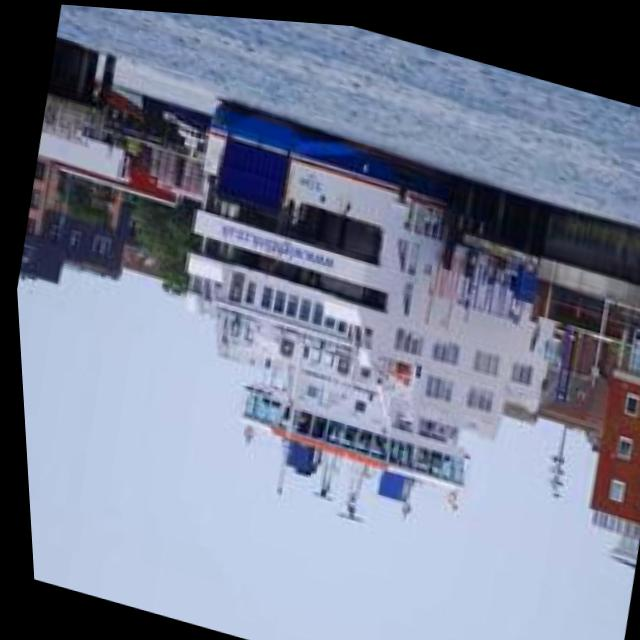ship2: (183, 95, 549, 518)
